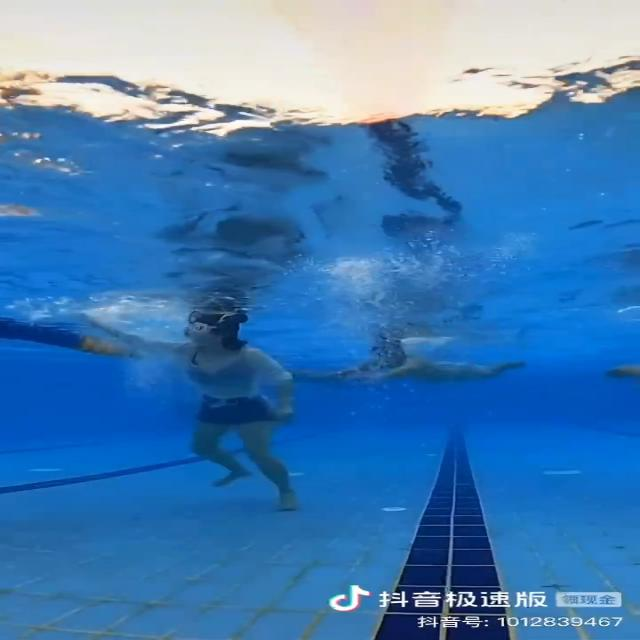Swimming: (142, 307, 313, 511), (280, 336, 536, 386)
